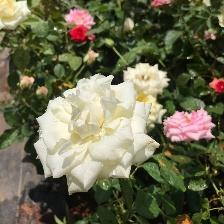rose: (32, 74, 155, 196)
